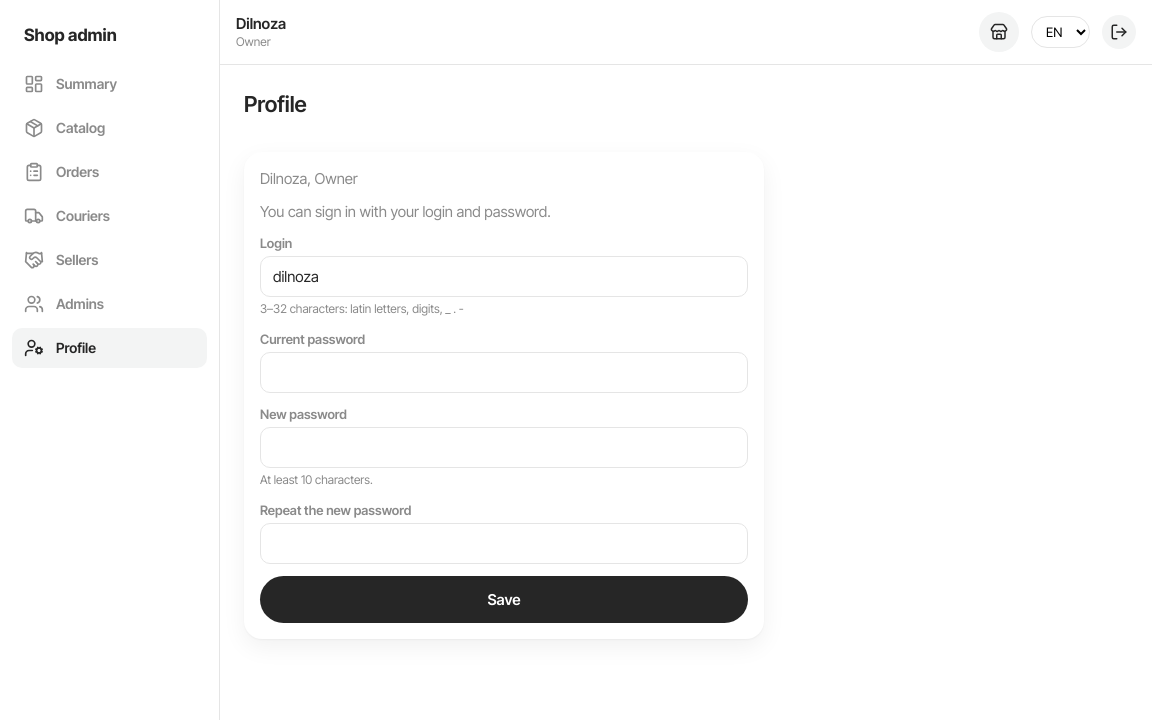
Test case: ProfileScreen › asks for the current password to change an existing one, and checks the repeat
Type "old password 1" into the password field labelled "Current password" at (504, 372), box [260,352,748,393]
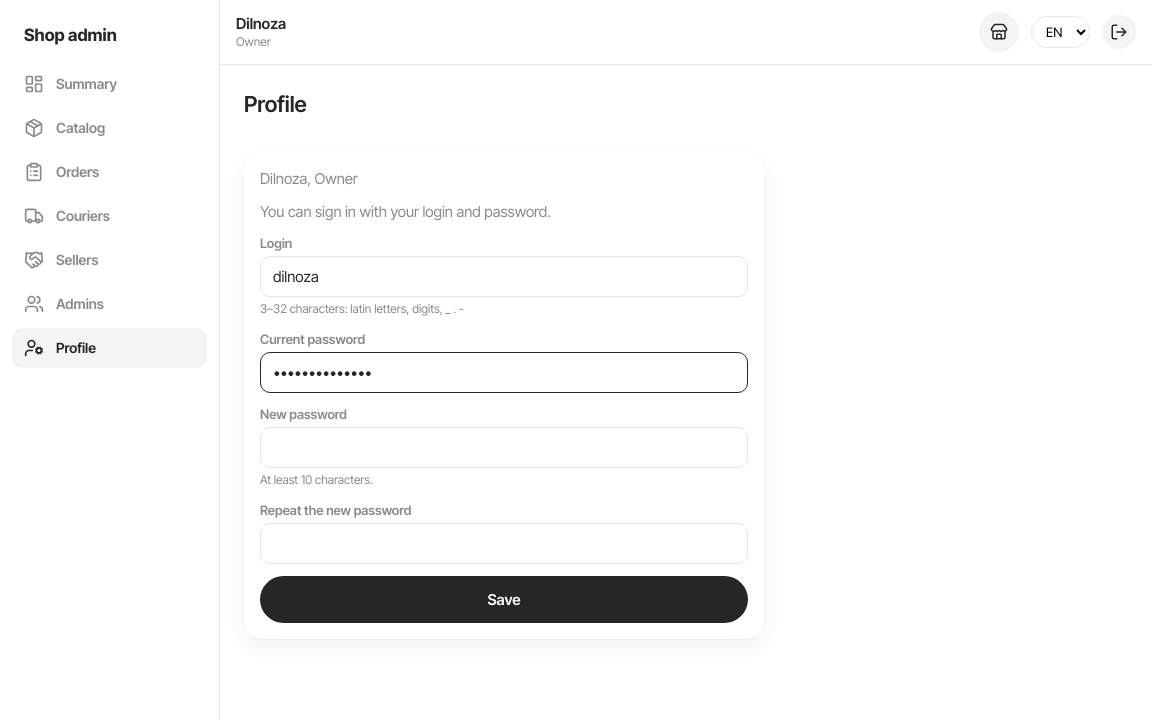
Type "new password 1" into the password field labelled "New password" at (504, 448), box [260,427,748,468]
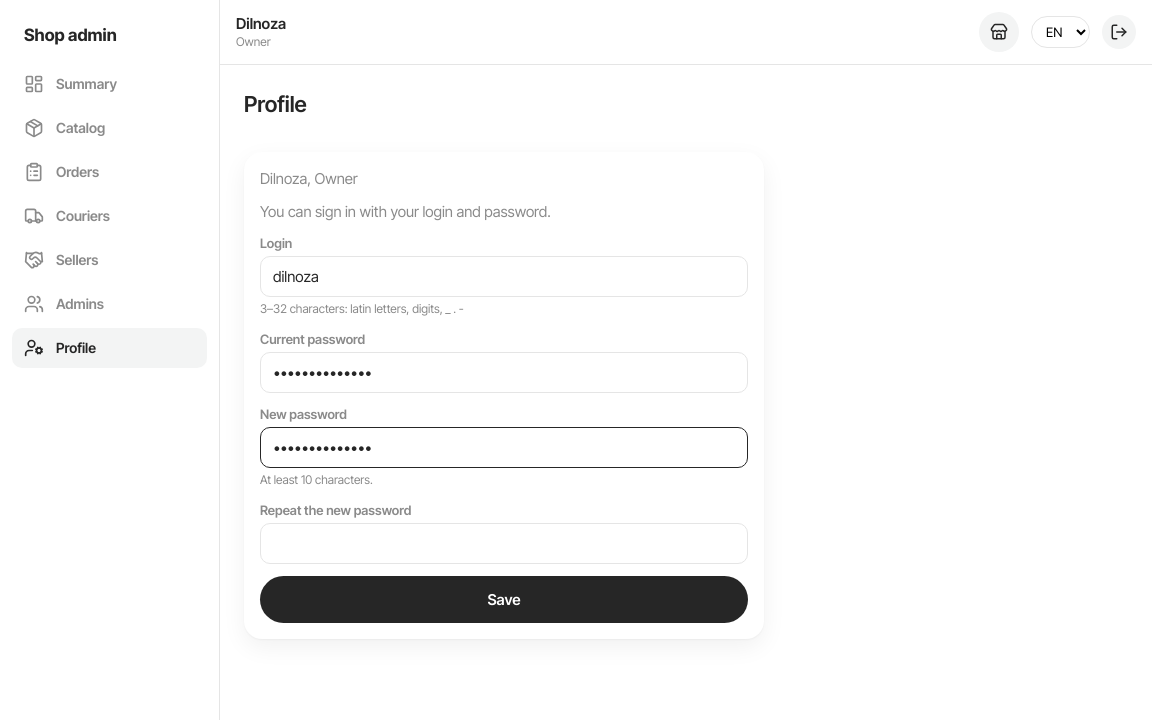
Type "different one" into the password field labelled "Repeat the new password" at (504, 544), box [260,523,748,564]
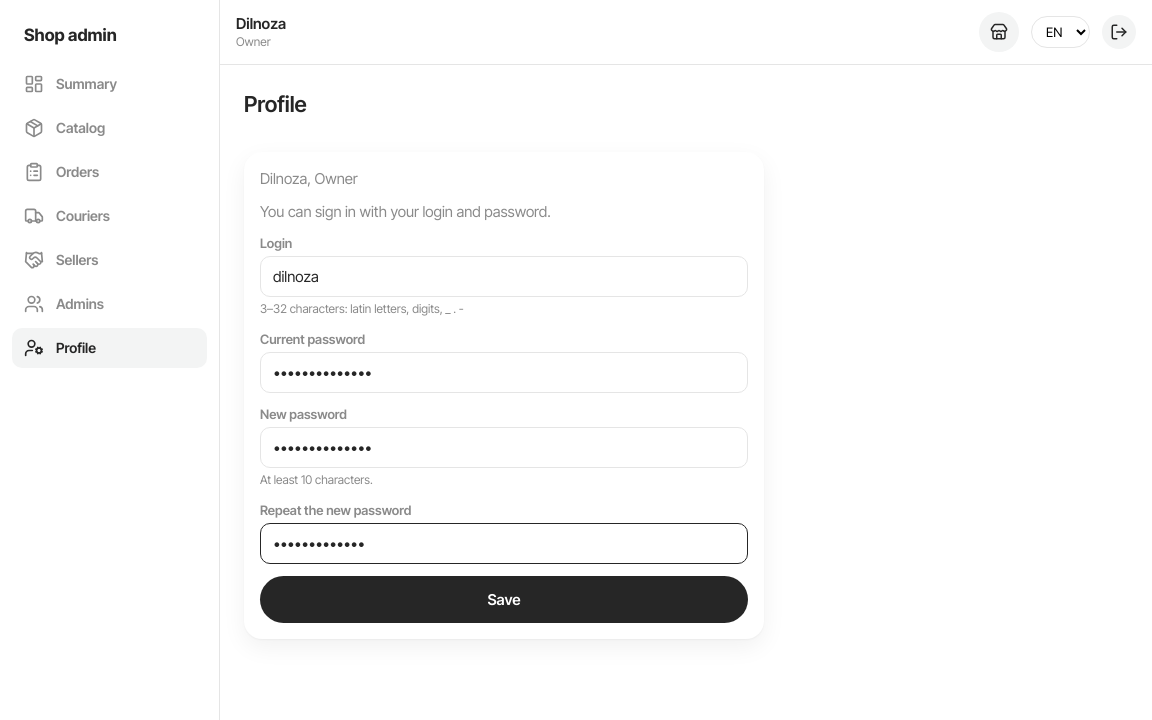
Click the button "Save" at (504, 600), box [260,576,748,623]
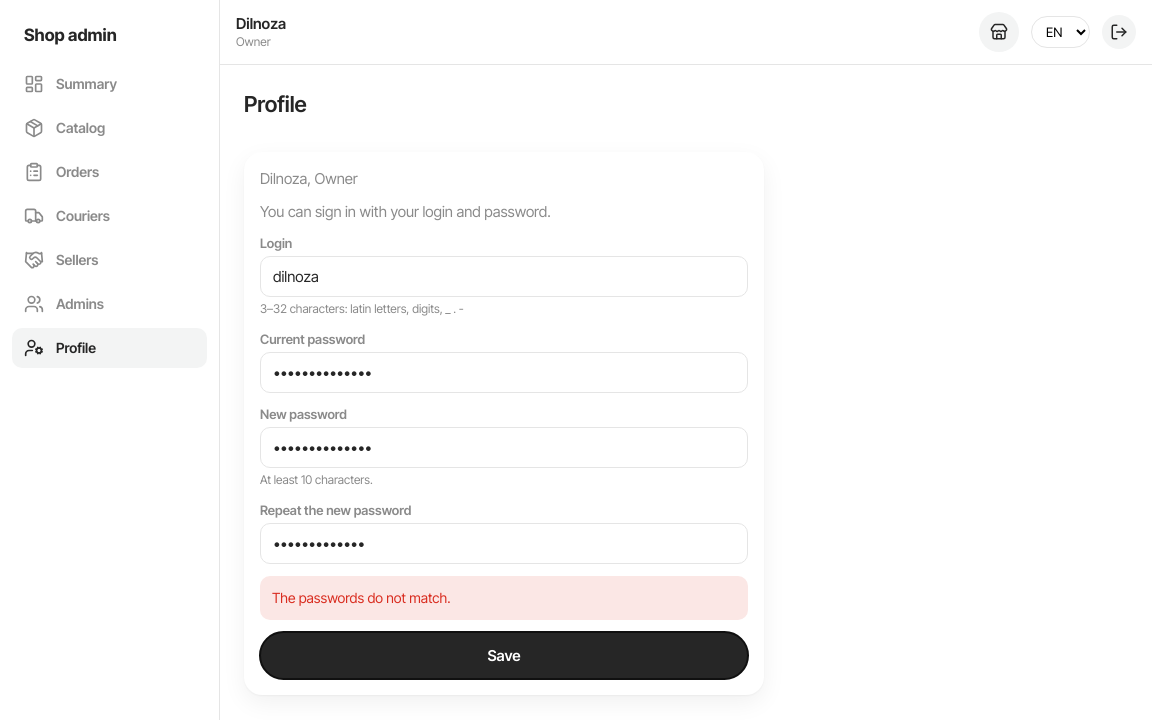
Expected: the message reads "The passwords do not match.", [272,589,450,606]
